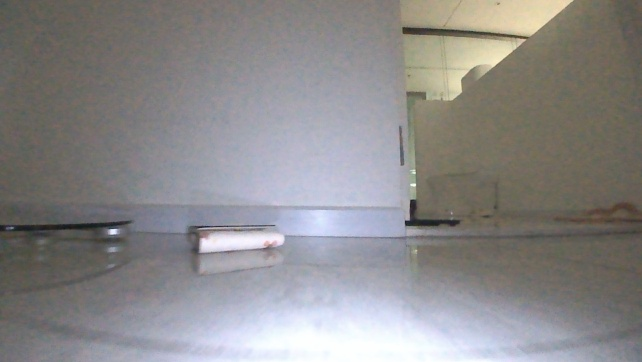toilet: (424, 164, 498, 221)
wallet: (180, 215, 290, 260)
weight_scale: (2, 201, 135, 245)
